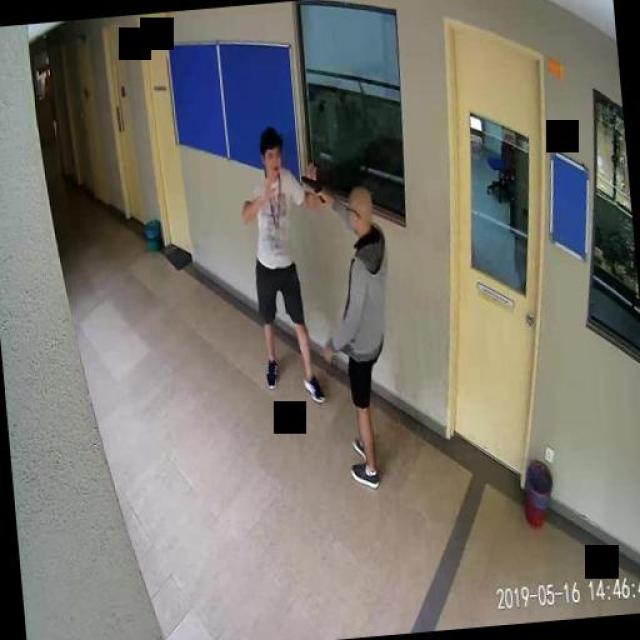gun: (301, 170, 324, 202)
